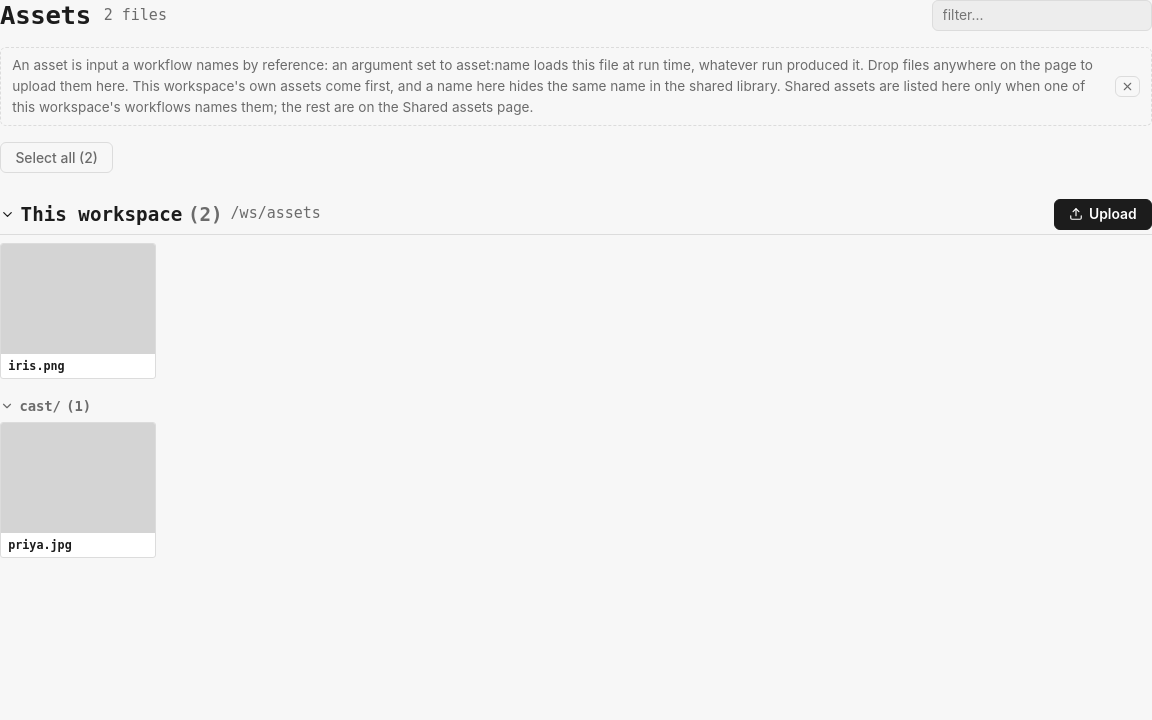
Test: shows the reference, not the path, when an asset is selected
The width and height of the screenshot is (1152, 720).
Expected: the text "iris.png" is shown, [8,359,65,373]
Click the button with aria-label "show details for iris.png" at (78, 311), box [0,243,156,379]
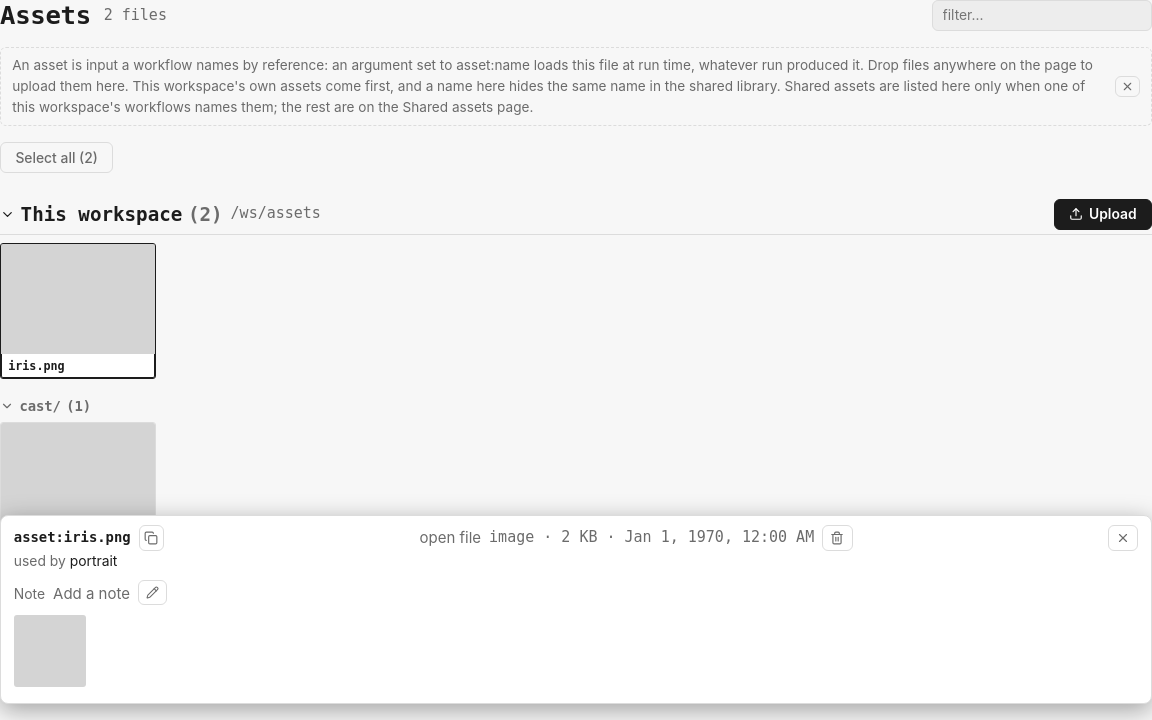
Now the text "asset:iris.png" is shown, box [14,527,131,549]
